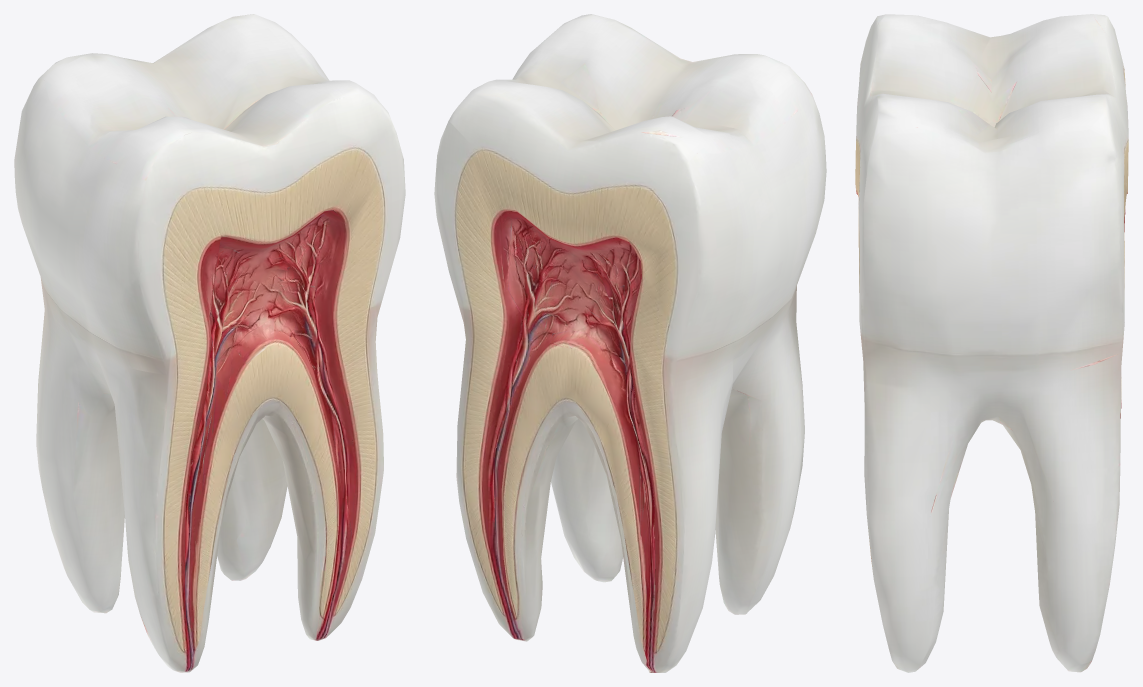
File: tooth.glb
The picture shows the model from 3 angles, left to right: view 1: azimuth 30°, elevation 25°; view 2: azimuth 150°, elevation 25°; view 3: azimuth 270°, elevation 25°; orthographic projection. The views are drawn at different scales.
Visible parts, largest first — view 1: Mesh_0; view 2: Mesh_0; view 3: Mesh_0.
Boxes of the visible parts, x1,y1,x2,y2 form: Mesh_0: (14, 14, 405, 672); Mesh_0: (434, 14, 826, 672); Mesh_0: (855, 14, 1128, 672).
Size of the model in its own units: 1.1 by 1.91 by 0.8229.
Materials: 1 (1 with a texture image).
